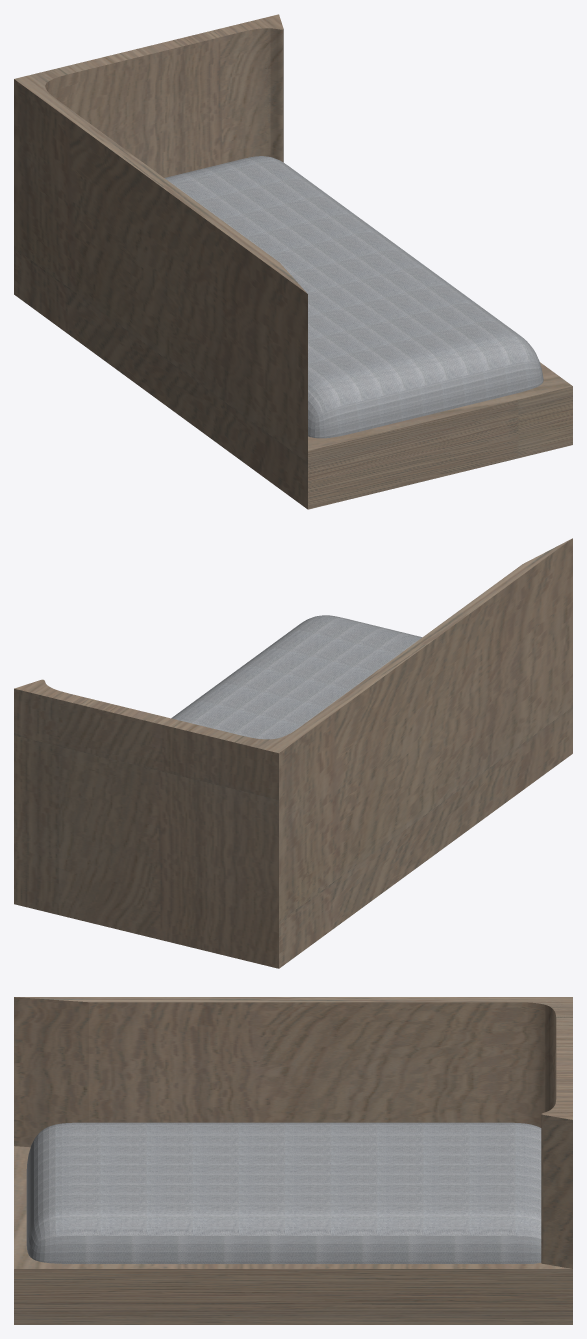
File: new_bed_concept.glb
3 views of the same model, one above another, from view 1: azimuth 30°, elevation 25°; view 2: azimuth 150°, elevation 25°; view 3: azimuth 270°, elevation 25° (orthographic). The views are drawn at different scales.
Parts seen in each view (by area): view 1: Cube.001, Cube; view 2: Cube.001, Cube; view 3: Cube.001, Cube.
Boxes of the visible parts, x1,y1,x2,y2 form: Cube.001: [14, 14, 572, 509]; Cube: [164, 156, 543, 438]; Cube.001: [14, 538, 572, 968]; Cube: [171, 615, 422, 739]; Cube.001: [14, 997, 572, 1324]; Cube: [26, 1122, 541, 1263].
Size of the model in its own units: 2.71 by 2.11 by 5.21.
Materials: 2 (2 with a texture image).
